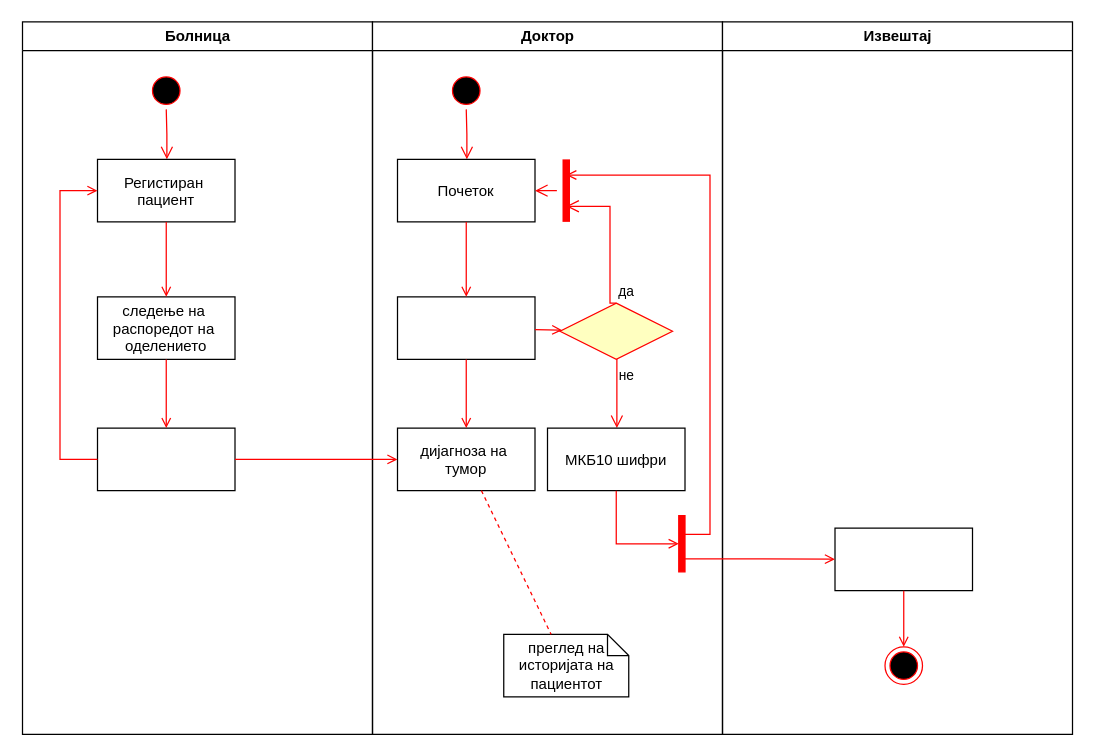
The diagram is 1094 pixels wide and 756 high, and some of its shapes have lost their labels. Here are the shapes that lost their labels. From the top down, the centre of each, then its label:
the point at 465,327: Преглед на податоци за тумор
the point at 615,330: Регистар администратор
the point at 165,459: внесете дијагноза во регисарот
the point at 903,559: генерира извештаи
